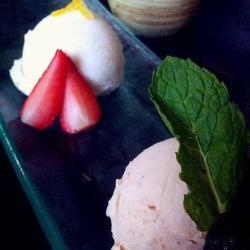icecream: (13, 7, 134, 116), (102, 140, 213, 250)
